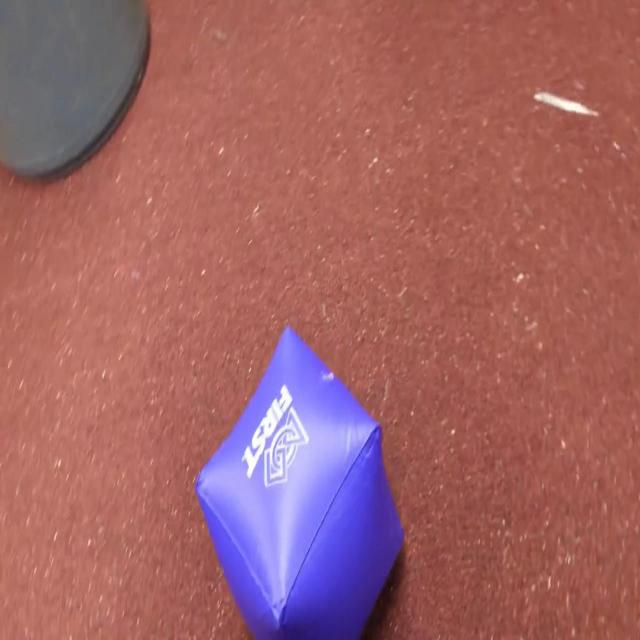frc_cube: (194, 325, 406, 640)
